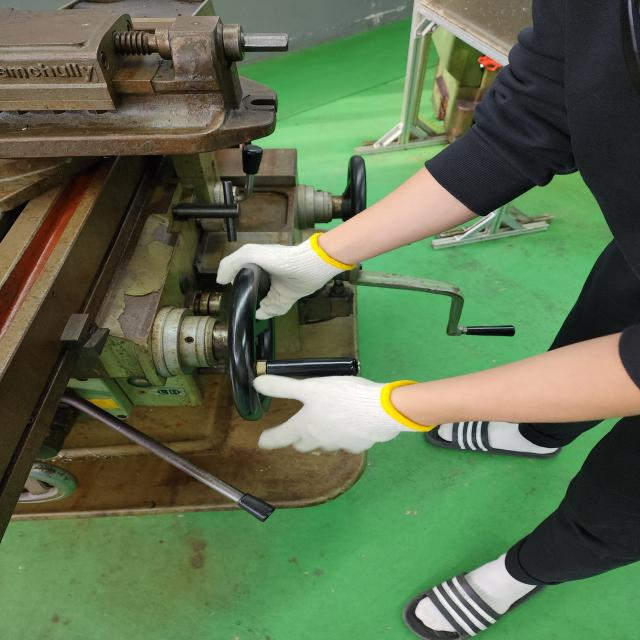Boots: (255, 374, 434, 456), (216, 232, 358, 319)
